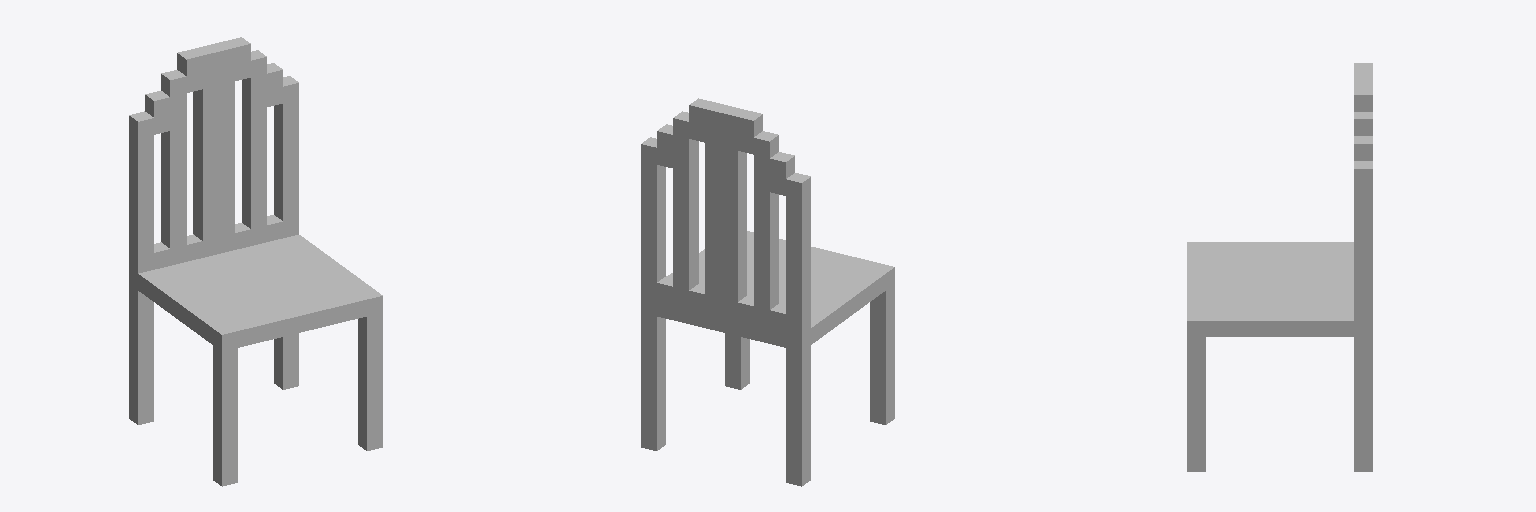
Rendered from Chair.obj.
3 renders of one model, left to right at view 1: azimuth 30°, elevation 25°; view 2: azimuth 150°, elevation 25°; view 3: azimuth 270°, elevation 25°, orthographic.
Visible parts, largest first — view 1: object 1; view 2: object 1; view 3: object 1.
Boxes of the visible parts, <box> form: object 1: <box>129,37,382,486</box>; object 1: <box>641,98,894,486</box>; object 1: <box>1187,63,1372,471</box>.
Size of the model in its own units: 1 by 2.1 by 1.